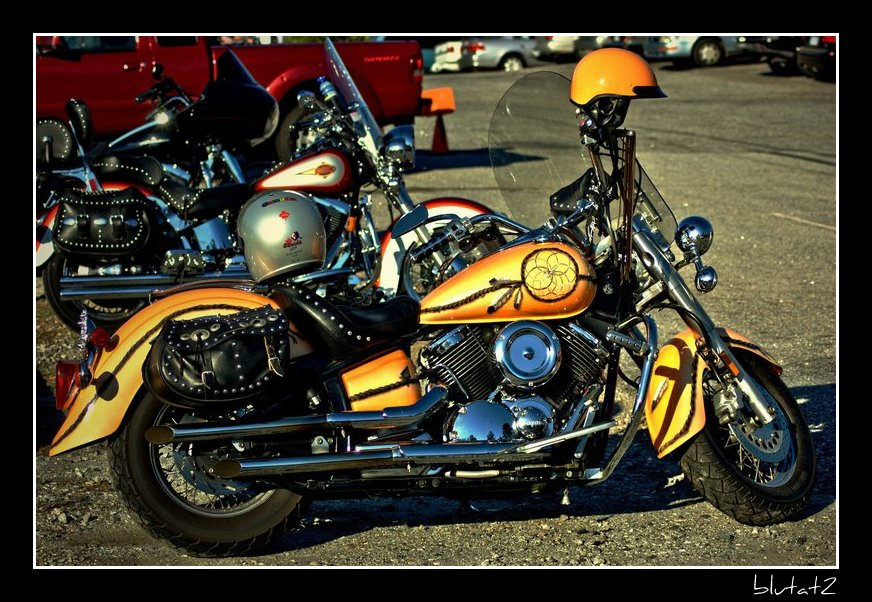motor bike: (63, 63, 807, 555), (55, 92, 493, 320)
